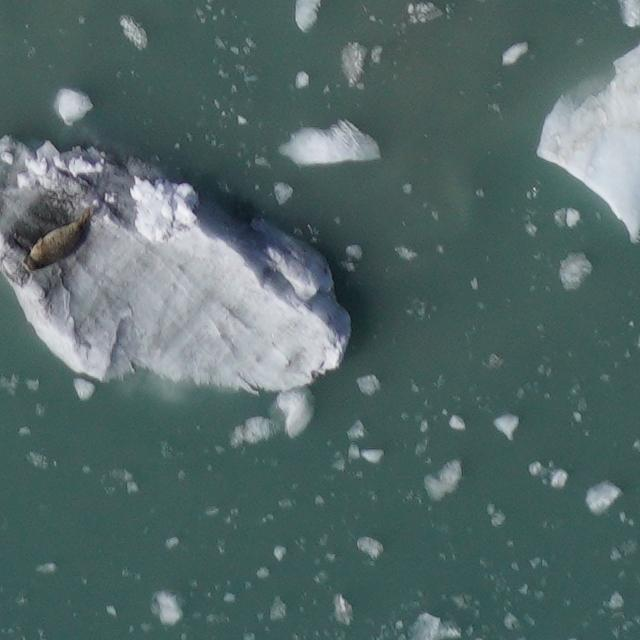seal: (16, 201, 99, 276)
